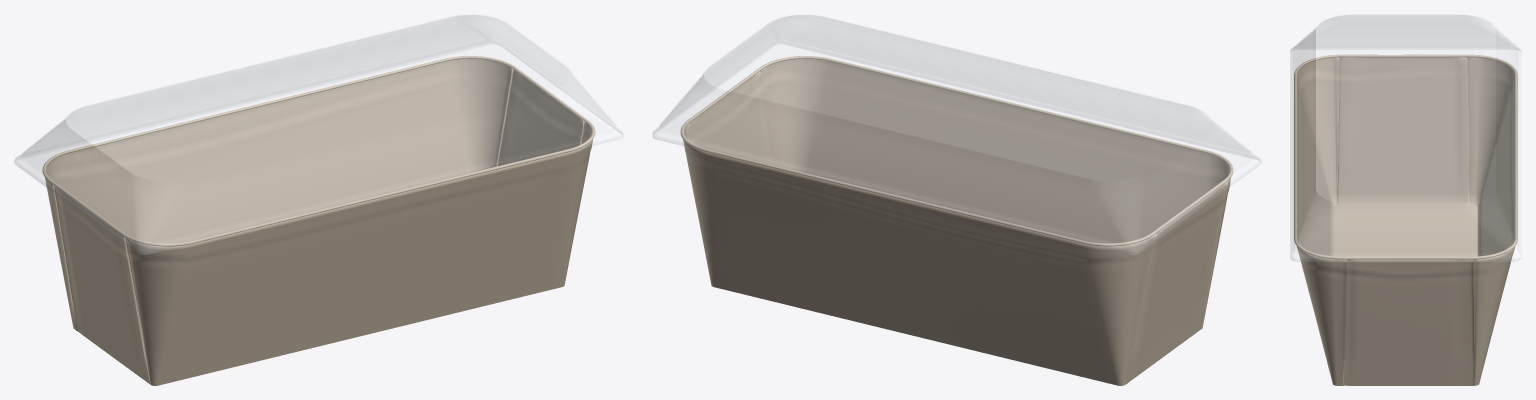
File: medium.glb
3 renders of one model, left to right at view 1: azimuth 30°, elevation 25°; view 2: azimuth 150°, elevation 25°; view 3: azimuth 270°, elevation 25°, orthographic. The views are drawn at different scales.
Parts seen in each view (by area): view 1: Body.Exterior, Body.Interior, Lid.Top, Lid.Skirt, Lid.InnerSkirt, Body.Rim; view 2: Body.Exterior, Body.Interior, Lid.Top, Lid.Skirt, Lid.InnerSkirt, Body.Rim; view 3: Body.Interior, Lid.Top, Body.Exterior, Lid.Skirt, Body.Floor, Lid.InnerSkirt, Body.Rim.
Part boxes in pixels (left/top/right/bottom): Body.Exterior: left=45, top=139, right=592, bottom=385; Body.Interior: left=46, top=58, right=591, bottom=350; Lid.Top: left=66, top=14, right=571, bottom=180; Lid.Skirt: left=14, top=73, right=623, bottom=254; Lid.InnerSkirt: left=15, top=15, right=622, bottom=161; Body.Rim: left=42, top=56, right=595, bottom=246; Body.Exterior: left=683, top=139, right=1230, bottom=385; Body.Interior: left=684, top=58, right=1229, bottom=243; Lid.Top: left=704, top=14, right=1209, bottom=180; Lid.Skirt: left=652, top=73, right=1261, bottom=254; Lid.InnerSkirt: left=653, top=15, right=1260, bottom=161; Body.Rim: left=680, top=56, right=1233, bottom=246; Body.Interior: left=1297, top=57, right=1514, bottom=256; Lid.Top: left=1316, top=14, right=1495, bottom=203; Body.Exterior: left=1296, top=246, right=1515, bottom=385; Lid.Skirt: left=1290, top=28, right=1521, bottom=261; Body.Floor: left=1334, top=205, right=1477, bottom=256; Lid.InnerSkirt: left=1291, top=15, right=1520, bottom=51; Body.Rim: left=1294, top=54, right=1517, bottom=259.
Bounding box in the file's own units: 0.195 × 0.08 × 0.09.
